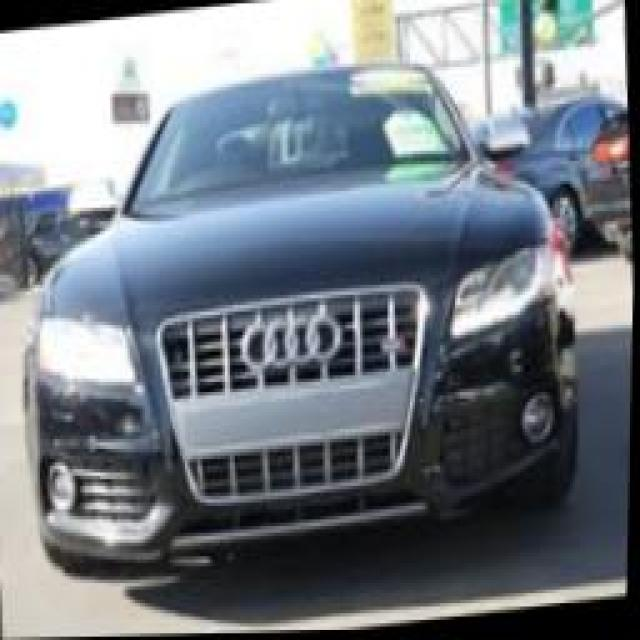Bumper: (415, 302, 562, 432), (18, 382, 159, 459)
